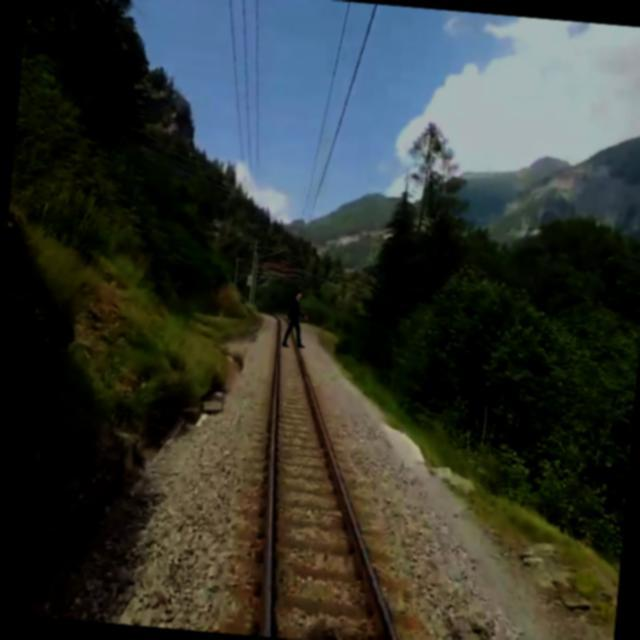danger: (277, 280, 319, 355)
rail: (230, 311, 423, 640)
